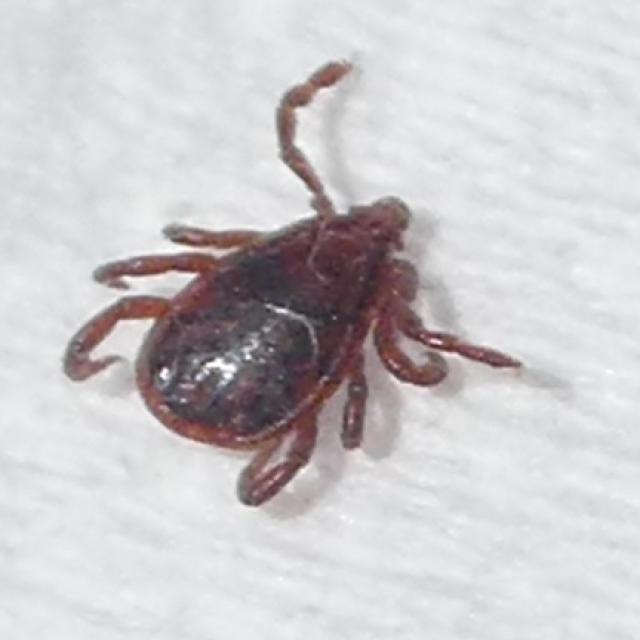Rhipicephalus Sanguineus-M: (62, 58, 523, 506)
